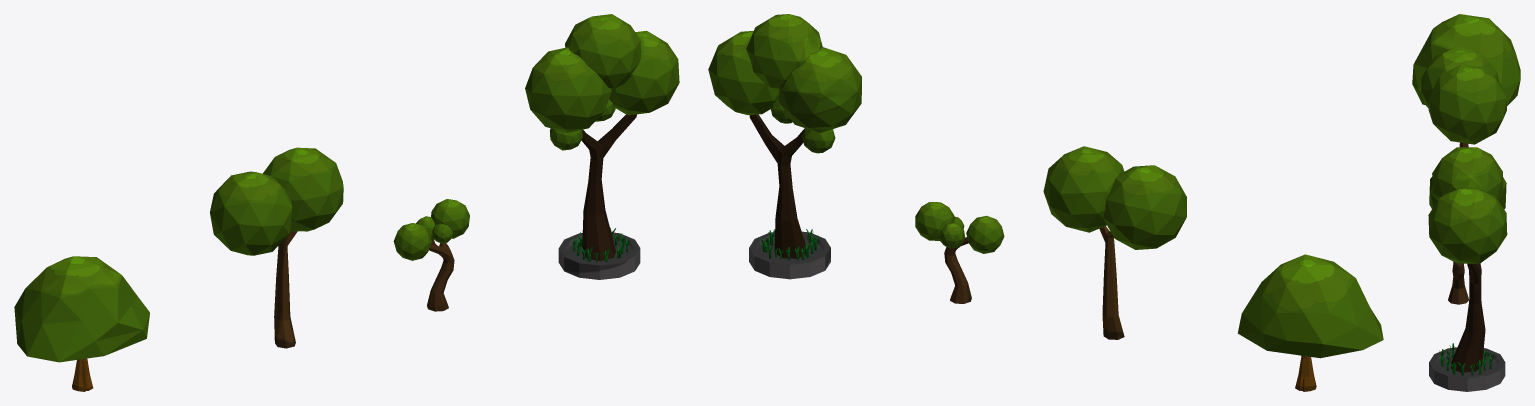
File: Pohon 1.fbx
3 renders of one model, left to right at view 1: azimuth 30°, elevation 25°; view 2: azimuth 150°, elevation 25°; view 3: azimuth 270°, elevation 25°, orthographic. The views are drawn at different scales.
Visible parts, largest first — view 1: Pohon 4, Pohon 2, Pohon 1, Pohon 3; view 2: Pohon 4, Pohon 2, Pohon 1, Pohon 3; view 3: Pohon 4, Pohon 2, Pohon 1, Pohon 3.
Part boxes in pixels (bbox=[...]): Pohon 4: bbox=[525, 14, 679, 279]; Pohon 2: bbox=[210, 147, 343, 348]; Pohon 1: bbox=[14, 256, 149, 391]; Pohon 3: bbox=[393, 199, 469, 311]; Pohon 4: bbox=[708, 14, 861, 279]; Pohon 2: bbox=[1043, 146, 1186, 339]; Pohon 1: bbox=[1237, 254, 1383, 391]; Pohon 3: bbox=[915, 202, 1004, 303]; Pohon 4: bbox=[1428, 147, 1507, 391]; Pohon 2: bbox=[1421, 46, 1506, 147]; Pohon 1: bbox=[1412, 14, 1520, 105]; Pohon 3: bbox=[1448, 261, 1468, 304].
Size of the model in its own units: 7019 by 2486 by 1072.
